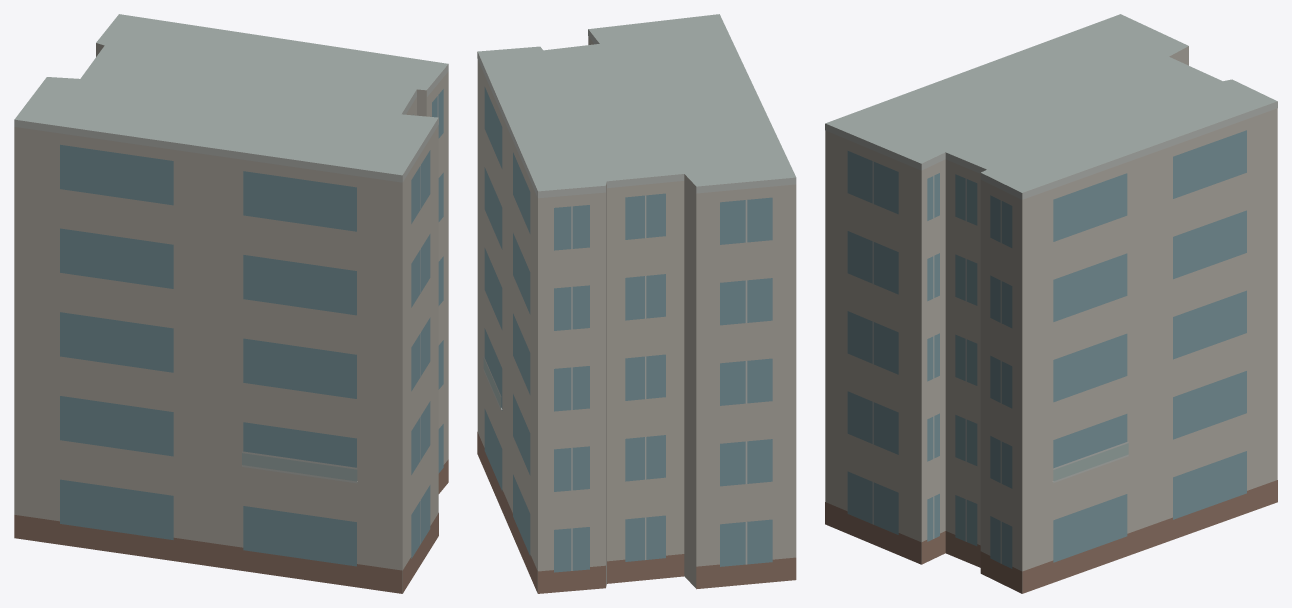
Rendered from survey-upis-32887824.glb.
The picture shows the model from 3 angles, left to right: view 1: azimuth 30°, elevation 25°; view 2: azimuth 150°, elevation 25°; view 3: azimuth 270°, elevation 25°; orthographic projection. The views are drawn at different scales.
Visible parts, largest first — view 1: survey-upis-32887824.tmp; view 2: survey-upis-32887824.tmp; view 3: survey-upis-32887824.tmp.
Part boxes in pixels (x1,y1,x2,y2): survey-upis-32887824.tmp: [14, 14, 448, 593]; survey-upis-32887824.tmp: [477, 14, 796, 593]; survey-upis-32887824.tmp: [825, 14, 1277, 593].
Size of the model in its own units: 13.61 by 14.2 by 14.54.
